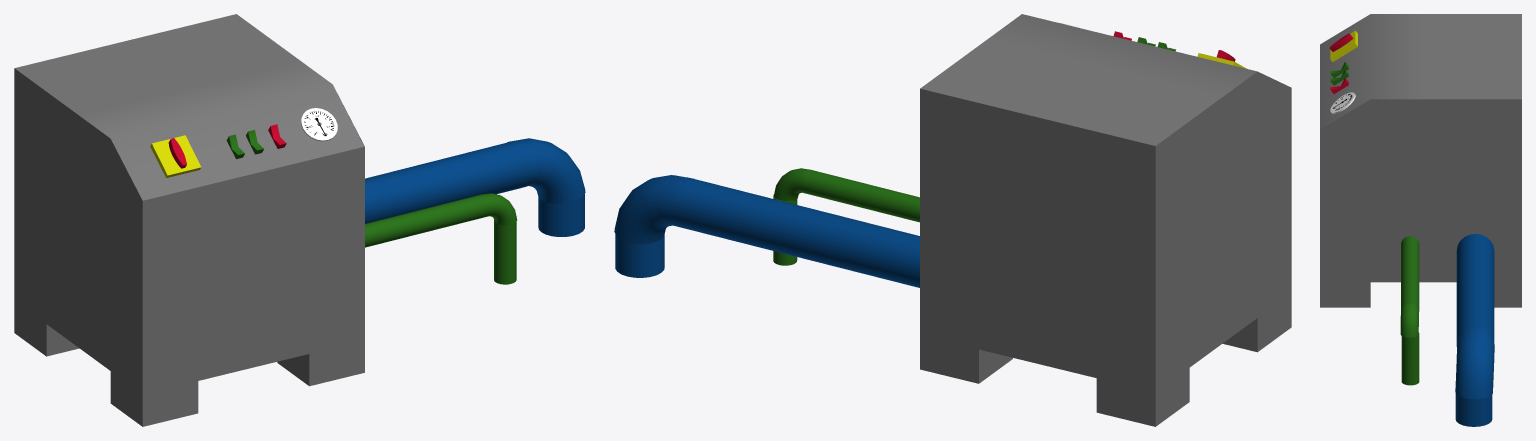
File: Steamgenerator.fbx
3 renders of one model, left to right at view 1: azimuth 30°, elevation 25°; view 2: azimuth 150°, elevation 25°; view 3: azimuth 270°, elevation 25°, orthographic. The views are drawn at different scales.
Parts seen in each view (by area): view 1: pCube38, pPipe1, pPipe4, pTorus1, pPipe2, pPipe3, pCube40, pCylinder4, pTorus2; view 2: pCube38, pPipe1, pTorus1, pPipe4, pPipe2, pTorus2; view 3: pCube38, pPipe1, pTorus1, pPipe4, pPipe2, pPipe3, pTorus2, pCube40, pCylinder4.
Boxes of the visible parts, x1,y1,x2,y2 form: pCube38: (14, 14, 364, 426); pPipe1: (365, 140, 531, 223); pPipe4: (365, 194, 489, 247); pTorus1: (507, 138, 585, 203); pPipe2: (538, 194, 584, 236); pPipe3: (494, 221, 516, 284); pCube40: (150, 135, 201, 177); pCylinder4: (301, 108, 337, 141); pTorus2: (483, 193, 517, 225); pCube38: (920, 14, 1291, 426); pPipe1: (672, 177, 919, 287); pTorus1: (614, 175, 694, 244); pPipe4: (801, 169, 919, 222); pPipe2: (615, 234, 664, 277); pTorus2: (774, 168, 808, 200); pCube38: (1320, 14, 1521, 307); pPipe1: (1456, 233, 1494, 346); pTorus1: (1455, 327, 1494, 399); pPipe4: (1401, 236, 1419, 311); pPipe2: (1455, 393, 1492, 426); pPipe3: (1401, 332, 1419, 385); pTorus2: (1400, 302, 1418, 337); pCube40: (1330, 30, 1357, 61); pCylinder4: (1330, 92, 1355, 113).
Bounding box in the file's own units: 2.42 × 1.14 × 1.
